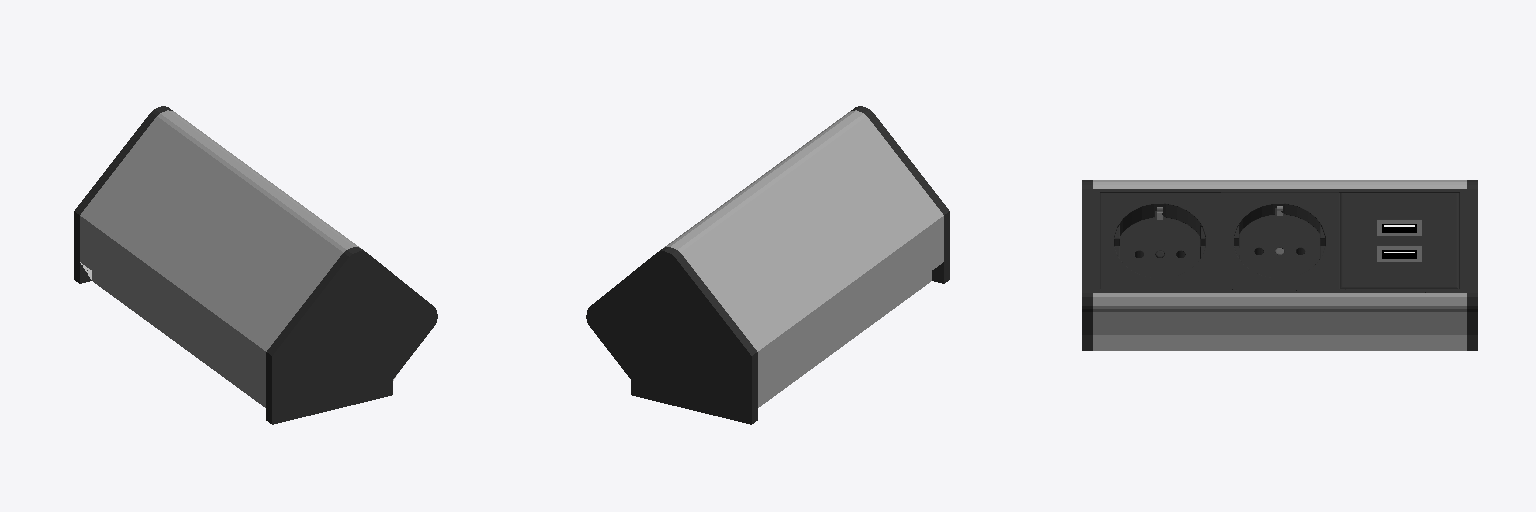
File: Steckdose_Tisch.obj
The picture shows the model from 3 angles: view 1: azimuth 30°, elevation 25°; view 2: azimuth 150°, elevation 25°; view 3: azimuth 270°, elevation 25°; orthographic projection.
Parts seen in each view (by area): view 1: Mesh7 Model; view 2: Mesh7 Model; view 3: Mesh7 Model.
Boxes of the visible parts, x1,y1,x2,y2 form: Mesh7 Model: [74, 106, 437, 424]; Mesh7 Model: [586, 106, 949, 424]; Mesh7 Model: [1082, 180, 1477, 350].
Bounding box in the file's own units: 0.1172 × 0.1029 × 0.2428.